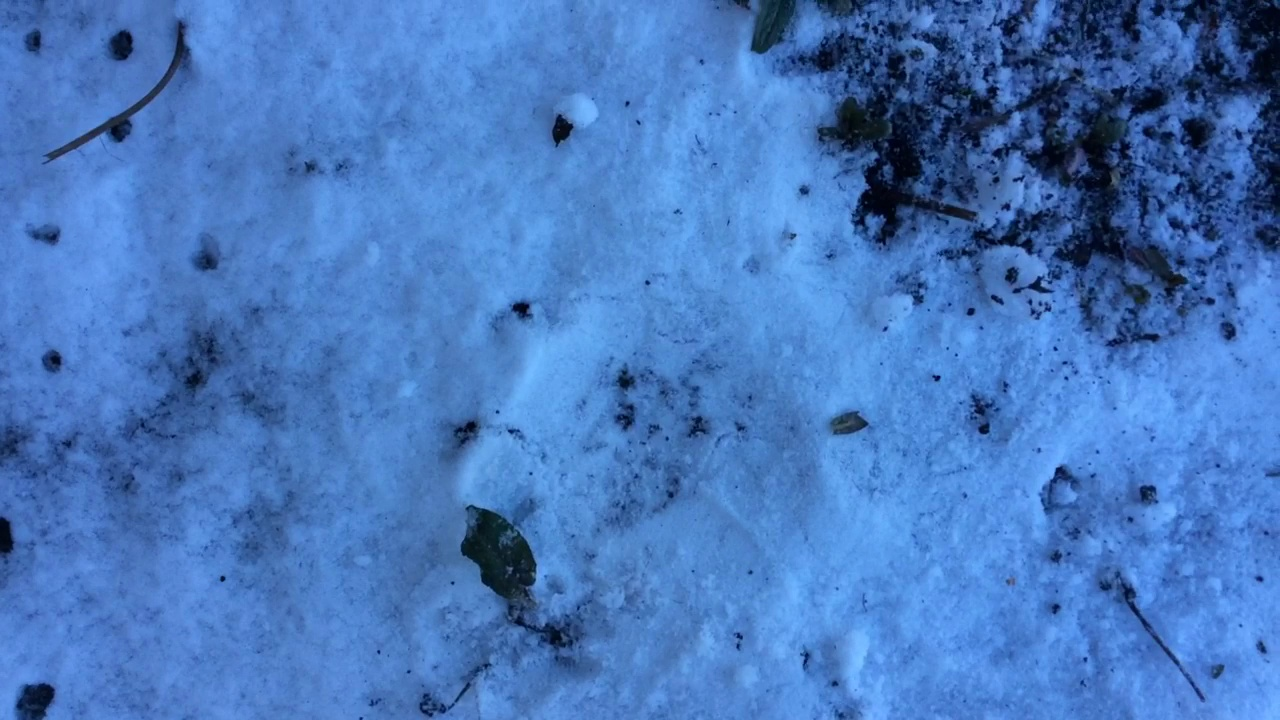root: (498, 594, 545, 640)
rumex: (447, 489, 559, 648)
